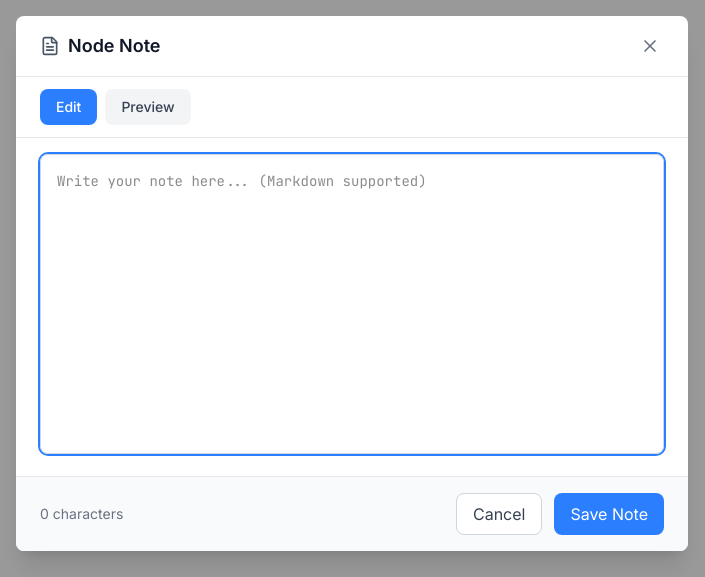
Scenario: NodeNoteEditor › switches back to edit mode
Click the button "Preview": {"x": 148, "y": 106} [105,88,191,124]
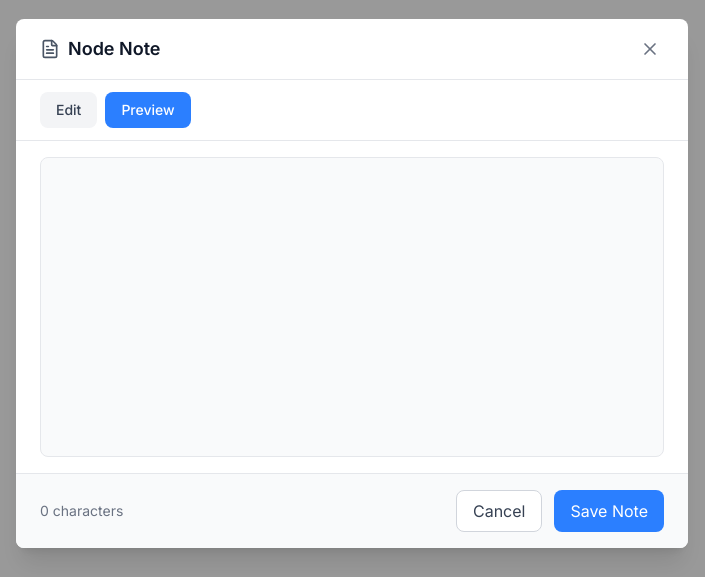
Click the button "Edit": {"x": 69, "y": 110} [40,92,97,128]
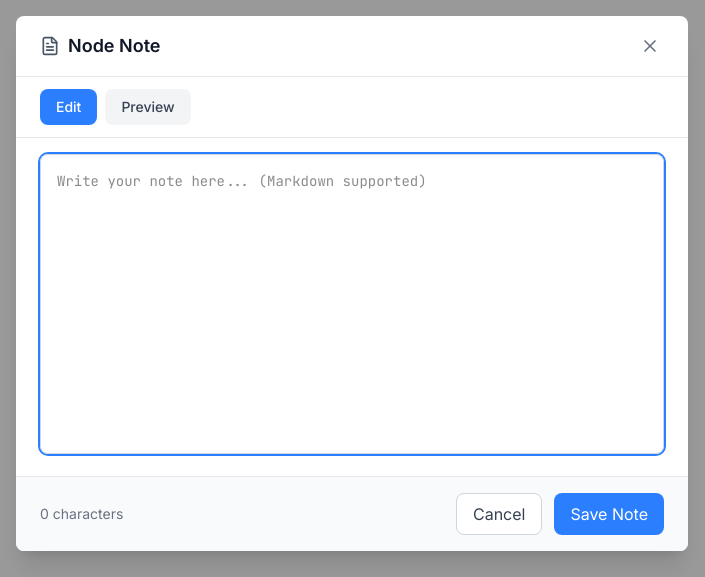
Now the text box with placeholder "Write your note here... (Markdown supported)" is shown, box [40,154,664,454]
